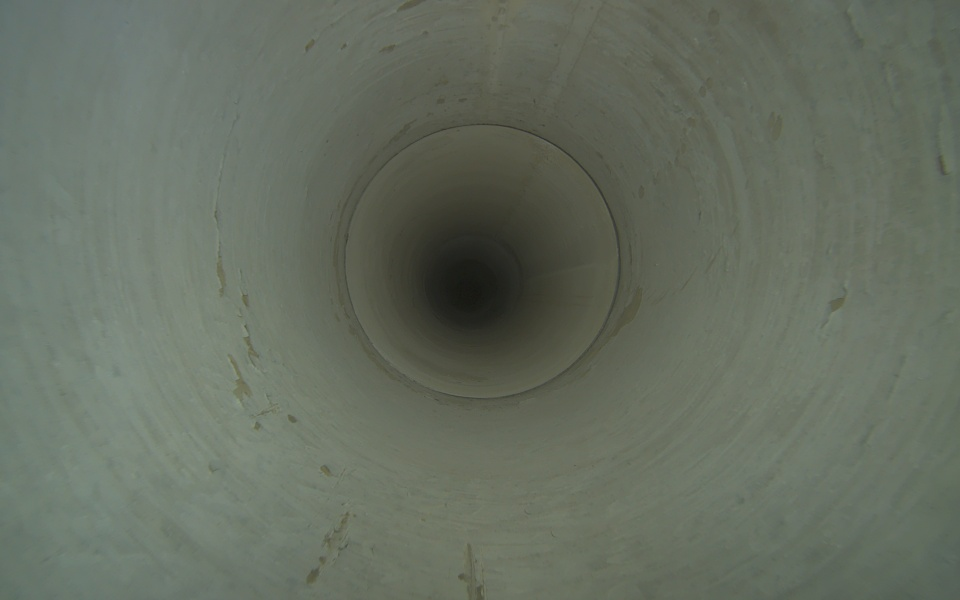circle1: (343, 122, 622, 400)
circle2: (455, 268, 493, 308)
